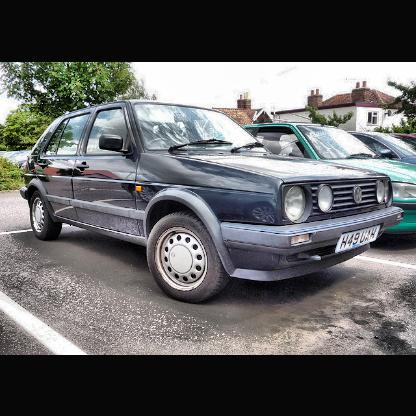Volkswagen Golf Hatchback 1991: (19, 102, 405, 303)
